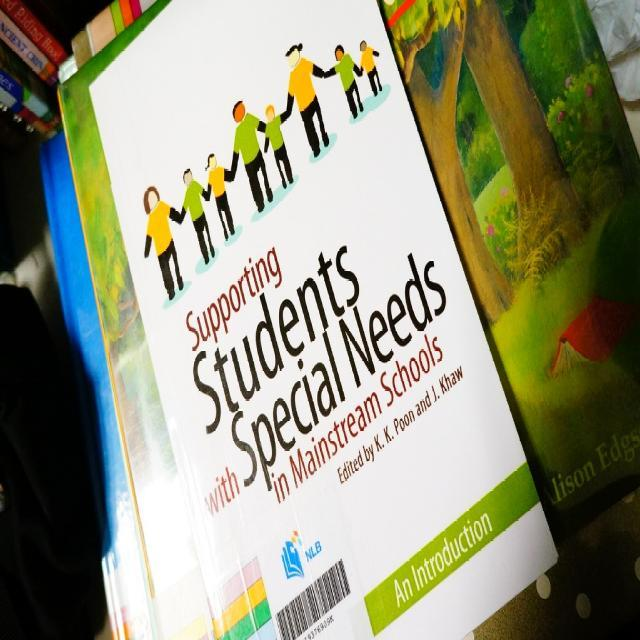book: (52, 0, 560, 639)
